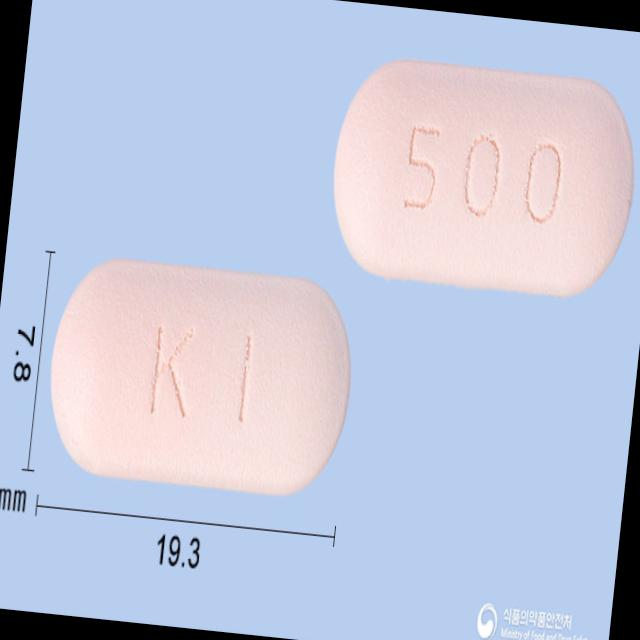Levogun -250mg: (39, 249, 361, 506), (322, 50, 640, 301)
